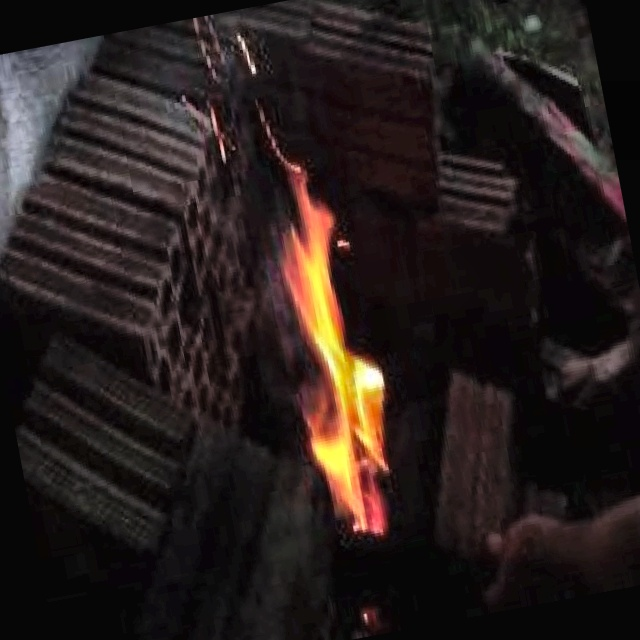fire: (211, 116, 459, 568)
